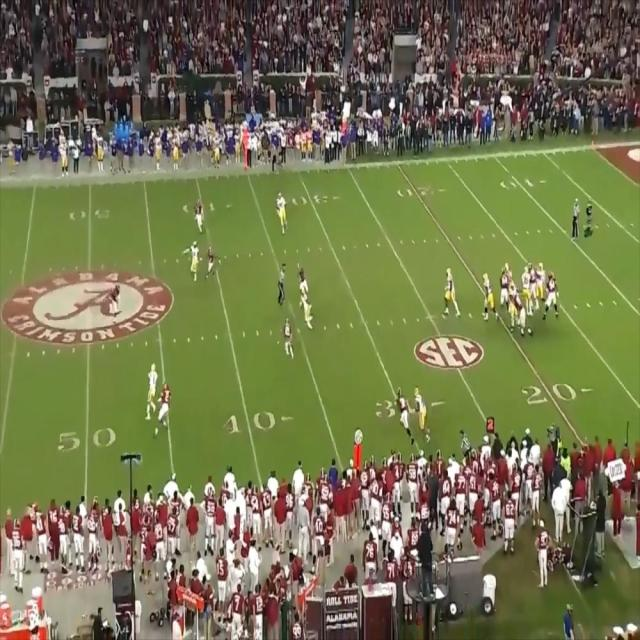db: (157, 387, 171, 431), (298, 267, 308, 305), (110, 278, 119, 318), (284, 321, 293, 356), (194, 198, 203, 230)
lb: (396, 388, 408, 433), (207, 243, 215, 275)
skill: (146, 362, 158, 418), (415, 387, 429, 433), (277, 190, 287, 232), (301, 288, 312, 326), (190, 240, 200, 277)
